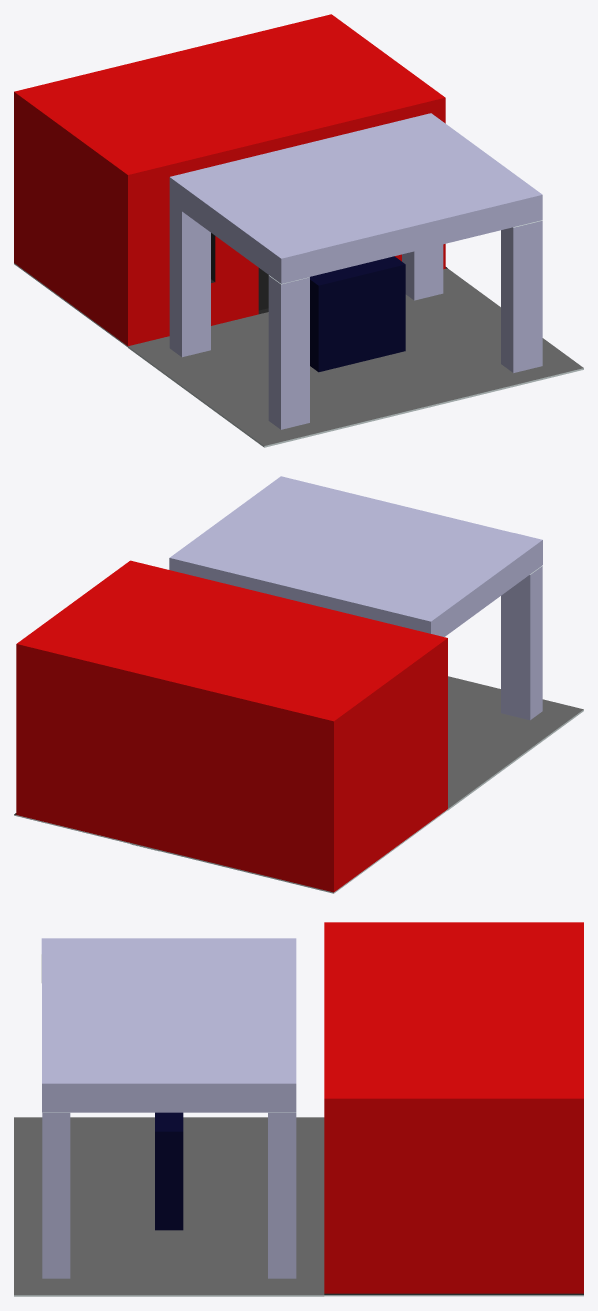
File: Gasolinera.fbx
The picture shows the model from 3 angles, top to bottom: view 1: azimuth 30°, elevation 25°; view 2: azimuth 150°, elevation 25°; view 3: azimuth 270°, elevation 25°; orthographic projection. The views are drawn at different scales.
Visible parts, largest first — view 1: Cubo; view 2: Cubo; view 3: Cubo.
Part boxes in pixels (left/top/right/bottom): Cubo: left=14, top=14, right=583, bottom=447; Cubo: left=14, top=476, right=583, bottom=893; Cubo: left=14, top=922, right=583, bottom=1296.
Bounding box in the file's own units: 8309 × 4293 × 11255.
